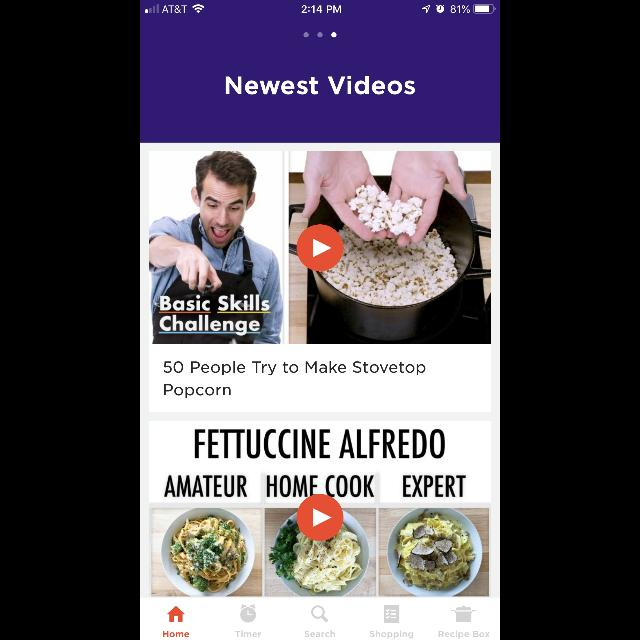icon: (296, 494, 344, 542), (296, 224, 344, 272), (384, 605, 400, 623), (240, 604, 256, 622), (167, 606, 185, 622), (312, 606, 328, 622)
image: (289, 152, 491, 344), (150, 152, 284, 344), (264, 509, 376, 597), (152, 509, 262, 597), (379, 509, 489, 597), (452, 606, 476, 622)
pageindicator: (304, 32, 336, 38)
text: (164, 360, 426, 398), (194, 429, 446, 459), (159, 294, 271, 336), (226, 76, 414, 94), (266, 475, 374, 497), (165, 475, 248, 497), (402, 475, 466, 497), (438, 630, 489, 638), (370, 630, 414, 638), (304, 630, 336, 638), (235, 630, 261, 638), (163, 631, 189, 637)
uppertaskbar: (140, 0, 500, 14)
